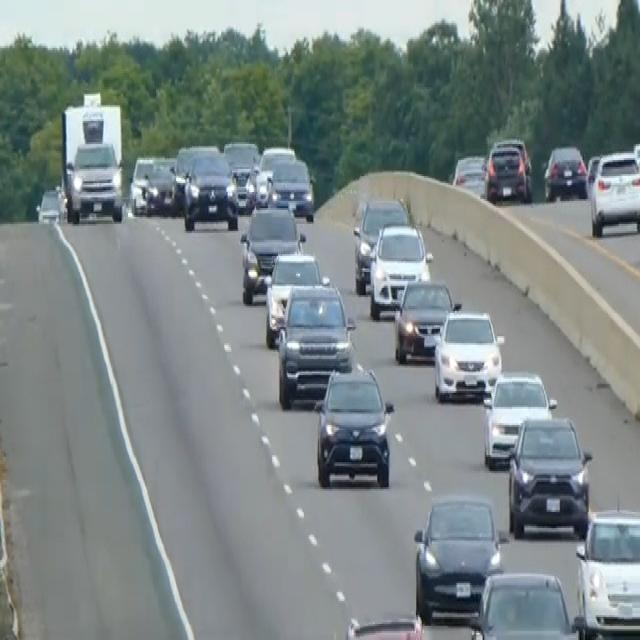car: (412, 491, 504, 622), (506, 412, 592, 538), (276, 279, 356, 407), (574, 507, 639, 638), (469, 567, 583, 638), (482, 368, 556, 469), (433, 308, 503, 402), (239, 203, 305, 302), (368, 220, 432, 318), (263, 247, 324, 349), (392, 276, 460, 362), (352, 194, 409, 293), (181, 149, 239, 231), (589, 148, 639, 236), (170, 142, 219, 214), (266, 157, 315, 220), (483, 138, 531, 202), (223, 138, 260, 210), (543, 142, 587, 201), (254, 142, 295, 201), (343, 610, 424, 638), (144, 155, 176, 215), (129, 153, 155, 215), (452, 151, 487, 197), (35, 185, 63, 224)
jeep: (312, 359, 396, 491)
truck: (59, 91, 125, 222)
